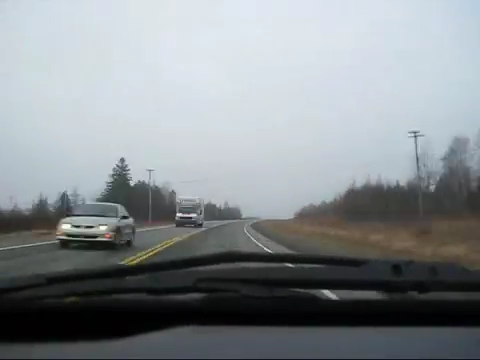bus: (174, 195, 205, 226)
car: (53, 200, 136, 248)
